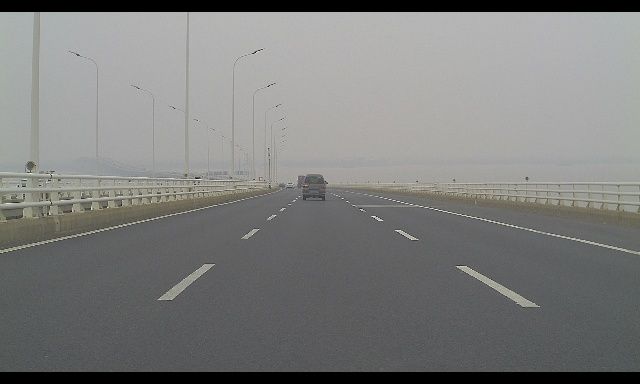car: (16, 178, 47, 202), (301, 174, 328, 200), (285, 182, 294, 189)
truck: (297, 175, 307, 188)
